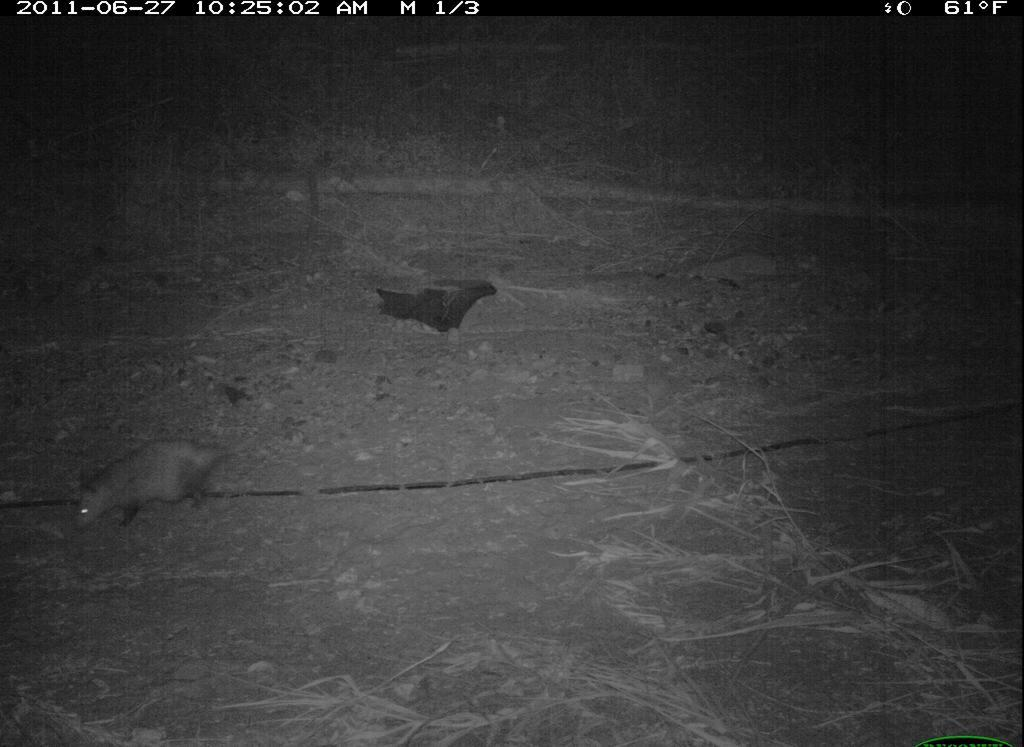opossum: (66, 424, 257, 543)
